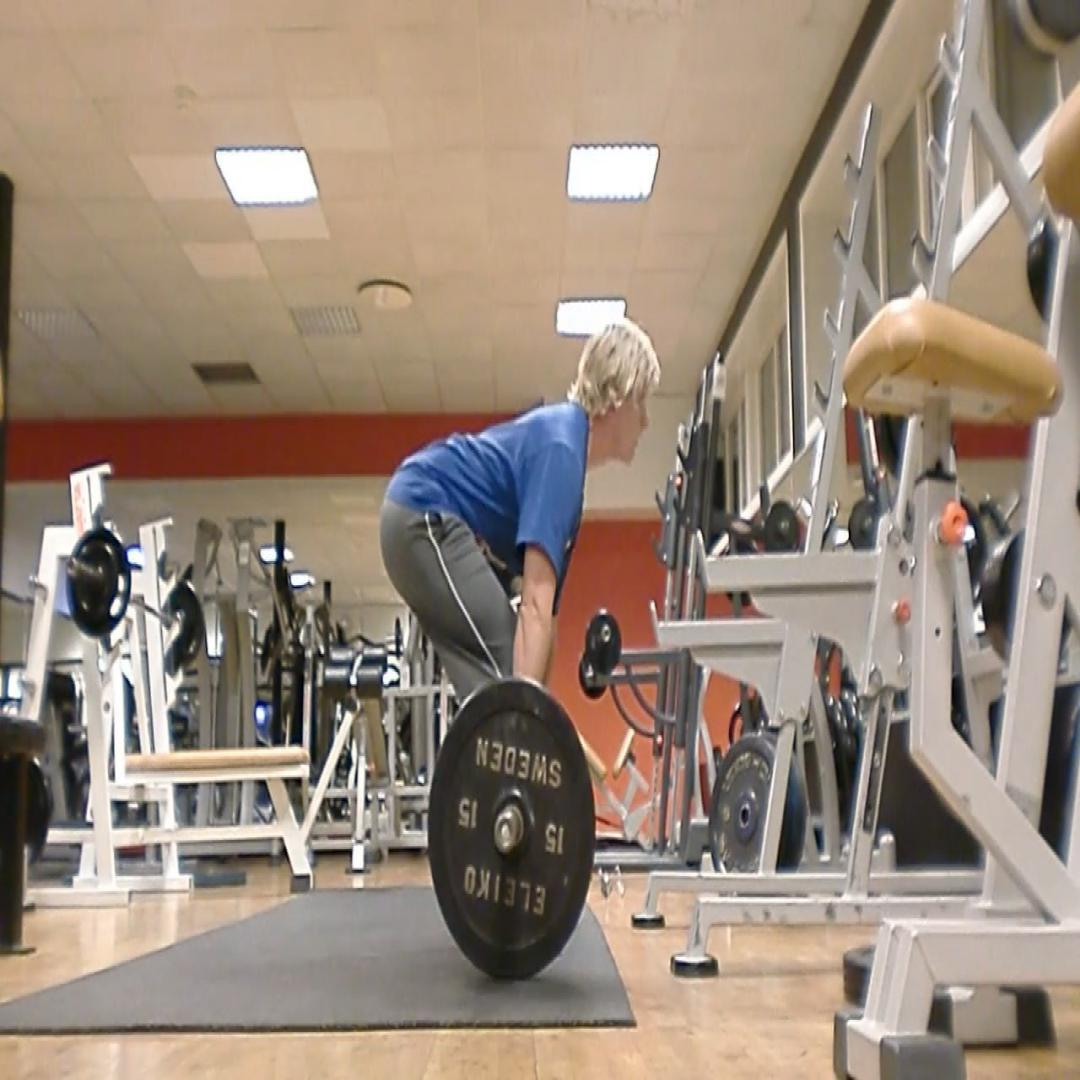Bar: (493, 809, 518, 855)
Barbell: (427, 680, 596, 983)
